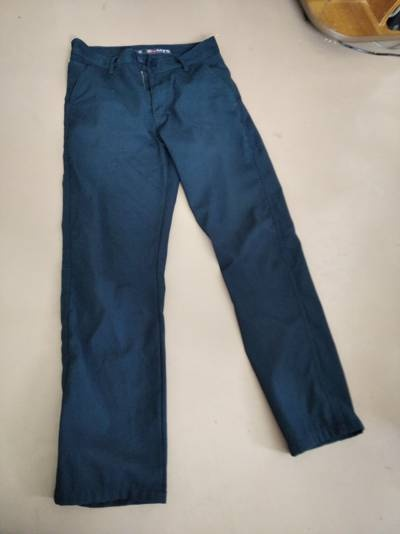Pants: (29, 19, 370, 502)
